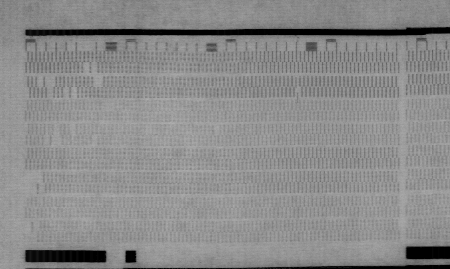Broken hole: (25, 170, 48, 195), (35, 75, 57, 99), (24, 217, 42, 245), (41, 135, 65, 147), (81, 62, 100, 76), (62, 88, 80, 99), (91, 74, 105, 87), (66, 123, 79, 135), (211, 125, 223, 137), (51, 124, 64, 135), (90, 134, 100, 147)
Oblique printing: (293, 87, 305, 103)
